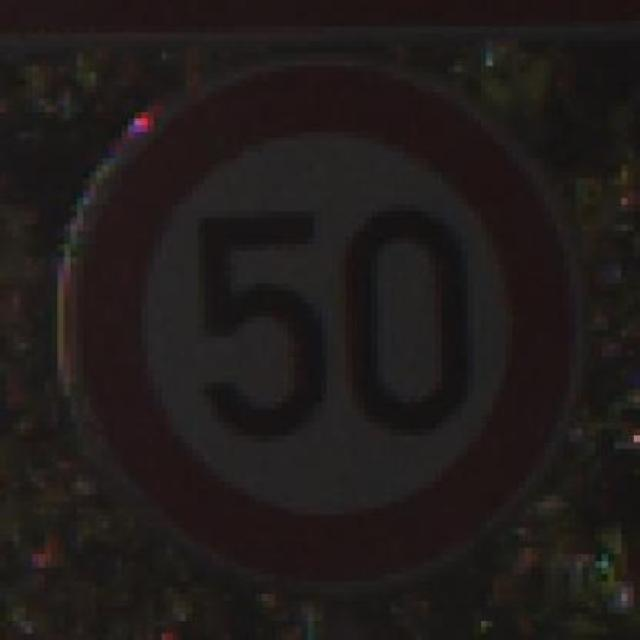50 mph speed limit: (32, 59, 590, 601)
